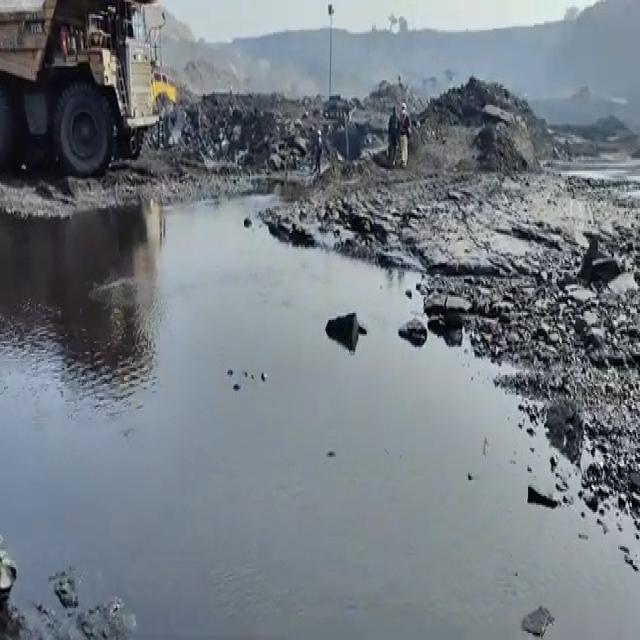dump_truck: (0, 0, 159, 174)
